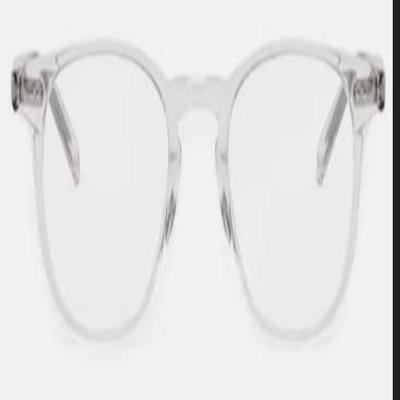glasses: (7, 35, 385, 348)
